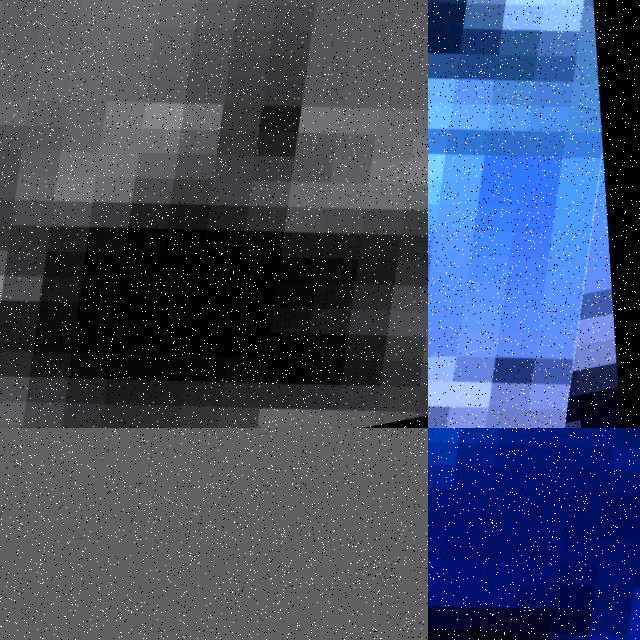drone: (0, 0, 428, 428), (428, 0, 640, 428), (428, 428, 640, 640)
